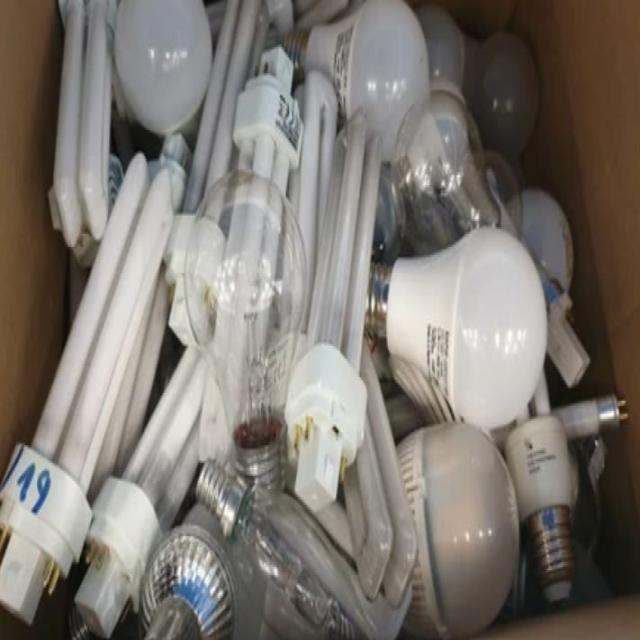electronic: (1, 0, 624, 637), (383, 222, 548, 429), (183, 167, 307, 442), (394, 417, 520, 637), (111, 0, 212, 136), (468, 28, 539, 160)
